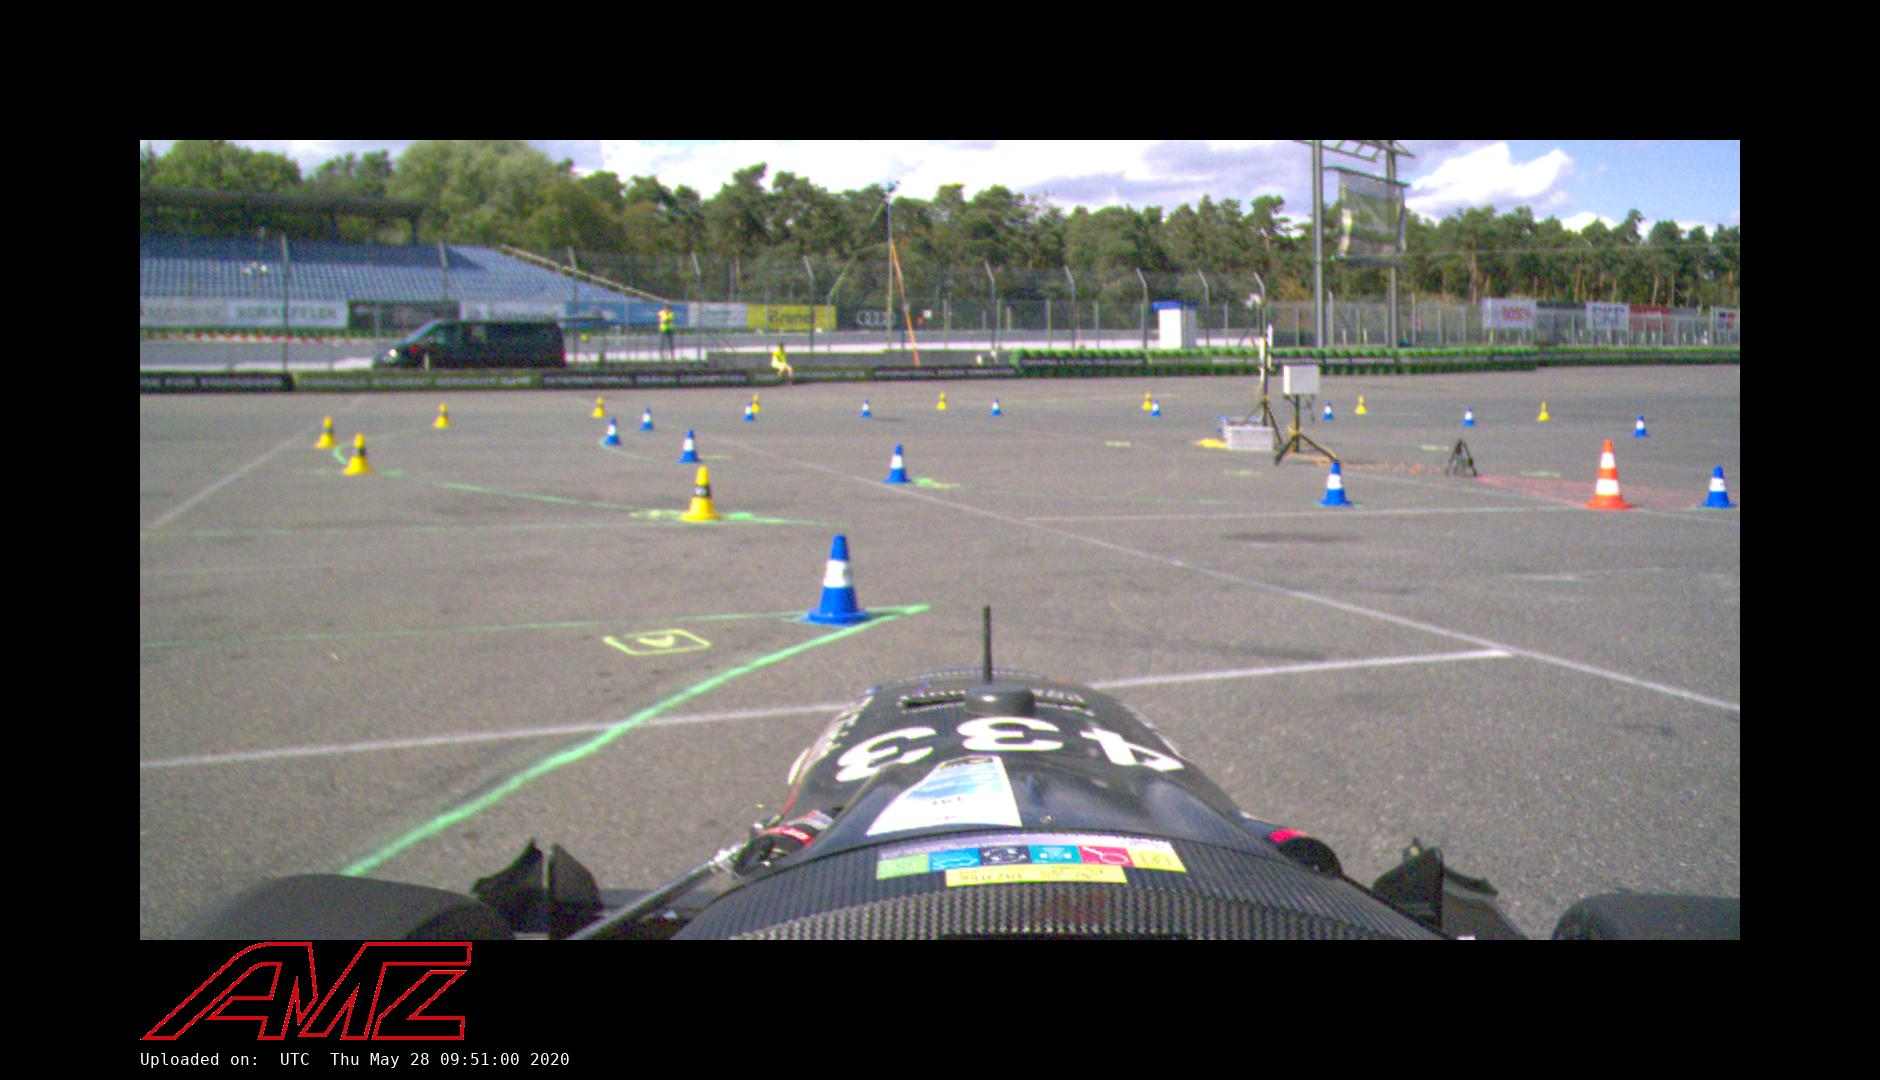blue_cone: (806, 535, 874, 627), (1320, 462, 1354, 506), (1701, 466, 1735, 508), (884, 444, 912, 483), (678, 430, 702, 462), (603, 417, 622, 444), (639, 407, 655, 431), (1632, 415, 1648, 437), (1462, 406, 1475, 426), (742, 402, 755, 421), (859, 399, 872, 417), (1322, 402, 1334, 420), (990, 398, 1001, 415), (1150, 399, 1161, 416)
large_orange_cone: (1587, 441, 1630, 509)
yellow_cone: (678, 466, 720, 521), (340, 434, 374, 475), (314, 417, 338, 447), (433, 403, 451, 428), (591, 397, 606, 417), (1537, 402, 1551, 421), (1354, 397, 1367, 413), (936, 391, 948, 410), (1141, 391, 1152, 410), (751, 394, 761, 413)
